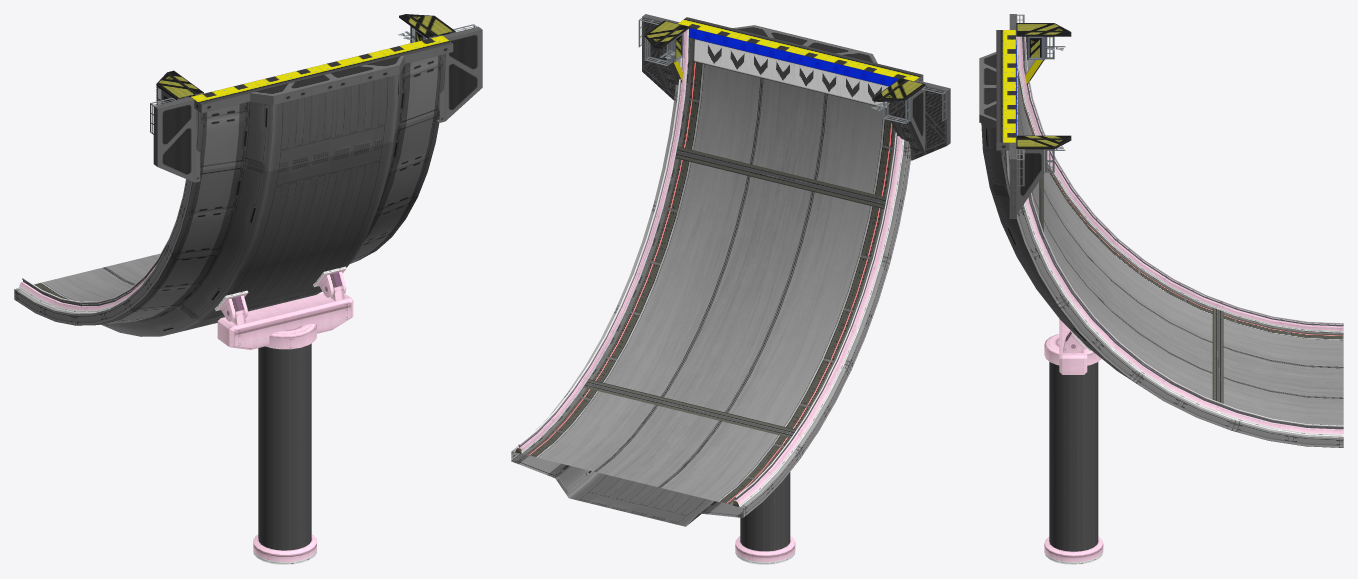
File: T26 - Magnetic Jump - UP.fbx
The picture shows the model from 3 angles, left to right: view 1: azimuth 30°, elevation 25°; view 2: azimuth 150°, elevation 25°; view 3: azimuth 270°, elevation 25°; orthographic projection. The views are drawn at different scales.
Parts seen in each view (by area): view 1: standard_bridge4, support_pylon, gate, frontplate_landing, support_hinge_base, straight_road18, wall1, support_hinge, support_ground, support_top; view 2: straight_road18, standard_bridge4, wall1, gate, magnetic_road_lines, flt_lines_landing, frontplate_landing, support_pylon, support_ground; view 3: straight_road18, wall1, support_pylon, standard_bridge4, gate, frontplate_landing, magnetic_road_lines, support_ground, support_hinge_base, support_top.
Part boxes in pixels (<box>): standard_bridge4: <box>14,36,445,336</box>; support_pylon: <box>258,343,311,550</box>; gate: <box>150,14,482,182</box>; frontplate_landing: <box>191,35,453,113</box>; support_hinge_base: <box>217,285,353,349</box>; straight_road18: <box>34,39,427,304</box>; wall1: <box>18,36,435,313</box>; support_hinge: <box>214,266,346,321</box>; support_ground: <box>253,534,316,564</box>; support_top: <box>265,323,316,349</box>; straight_road18: <box>522,27,895,505</box>; standard_bridge4: <box>511,27,910,526</box>; wall1: <box>515,29,904,507</box>; gate: <box>638,14,950,160</box>; magnetic_road_lines: <box>594,78,872,487</box>; flt_lines_landing: <box>688,27,898,108</box>; frontplate_landing: <box>678,17,923,81</box>; support_pylon: <box>740,472,790,551</box>; support_ground: <box>735,536,795,564</box>; straight_road18: <box>1018,72,1343,427</box>; wall1: <box>1016,36,1343,436</box>; support_pylon: <box>1049,362,1098,551</box>; standard_bridge4: <box>981,31,1343,447</box>; gate: <box>1009,14,1071,218</box>; frontplate_landing: <box>979,30,1015,150</box>; magnetic_road_lines: <box>1018,106,1343,403</box>; support_ground: <box>1044,537,1103,564</box>; support_hinge_base: <box>1059,319,1087,374</box>; support_top: <box>1044,334,1101,365</box>.
Size of the model in its own units: 5885 by 8819 by 6230.
